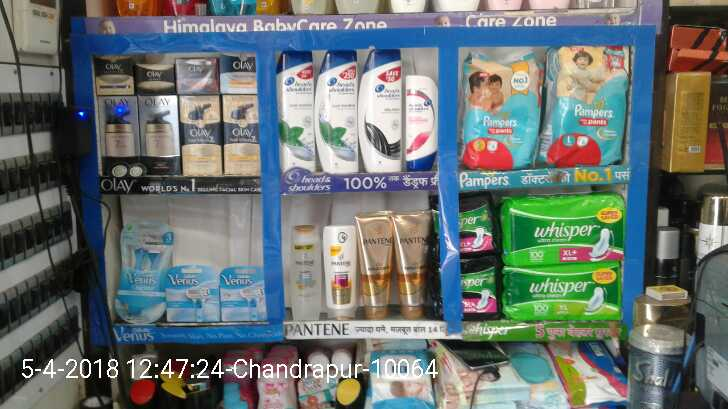venus: (115, 222, 167, 321), (167, 264, 220, 321), (220, 265, 267, 321)
